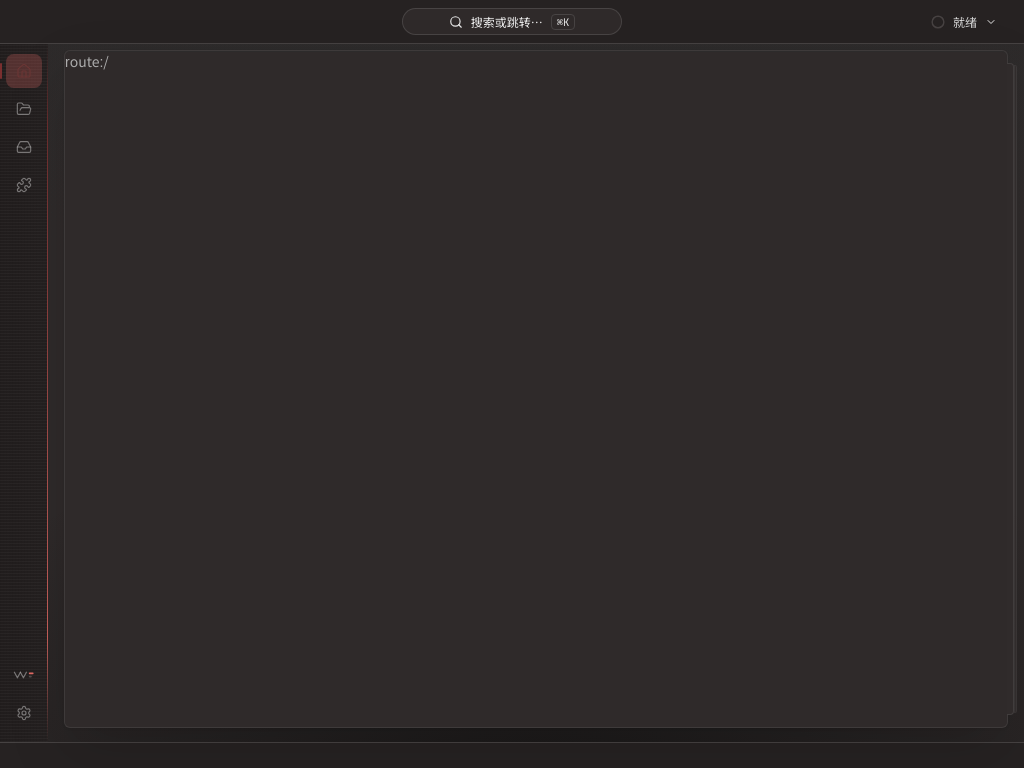
Test: ⌘K 命令面板 › 点外关（target 归属守卫）
Press k
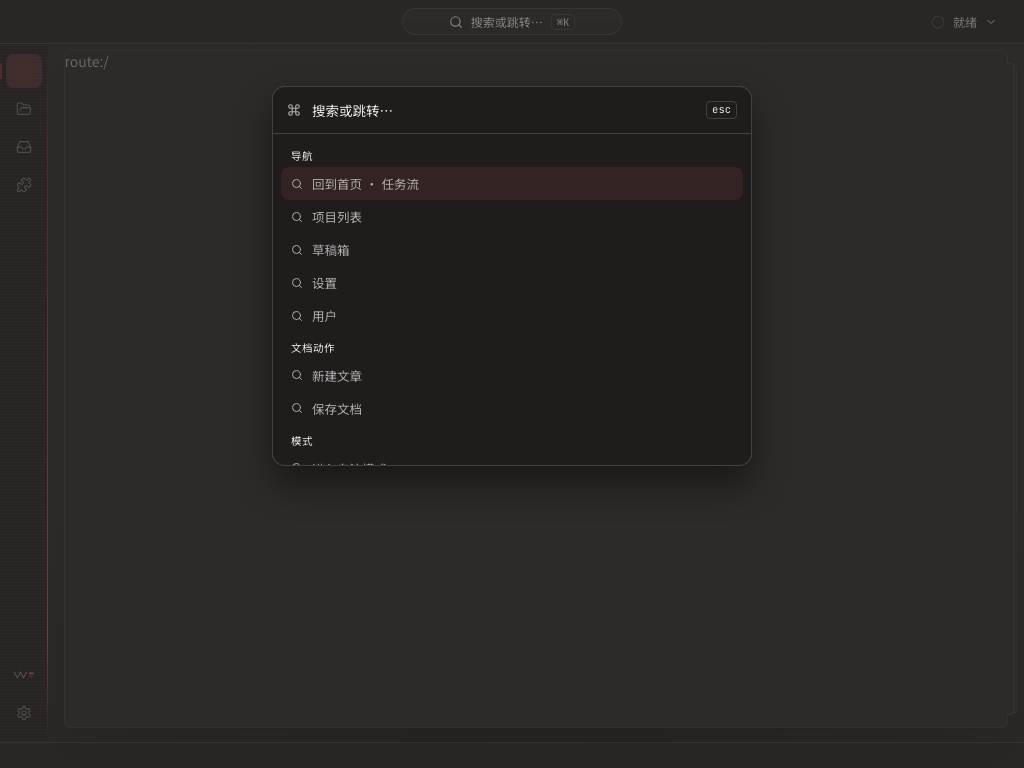
Now the dialog with test id "palette" is shown, box [272,86,752,466]
Click the element named "wuh.site" at (512, 384), box [0,0,1023,767]
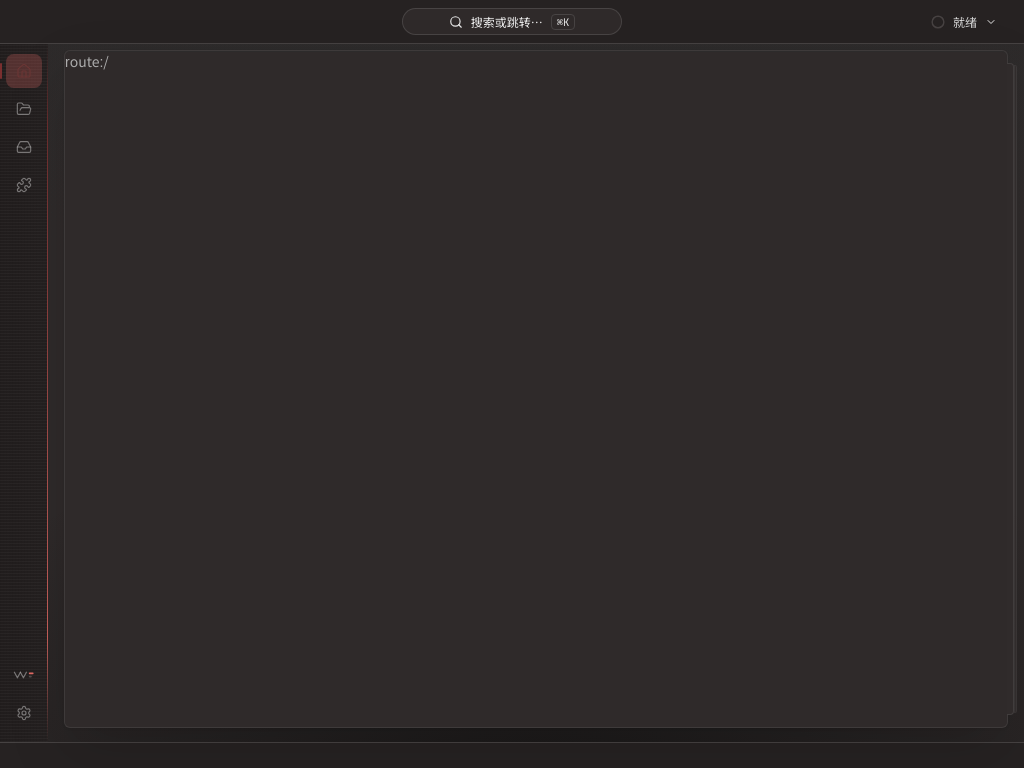
Now the dialog with test id "palette" is gone
